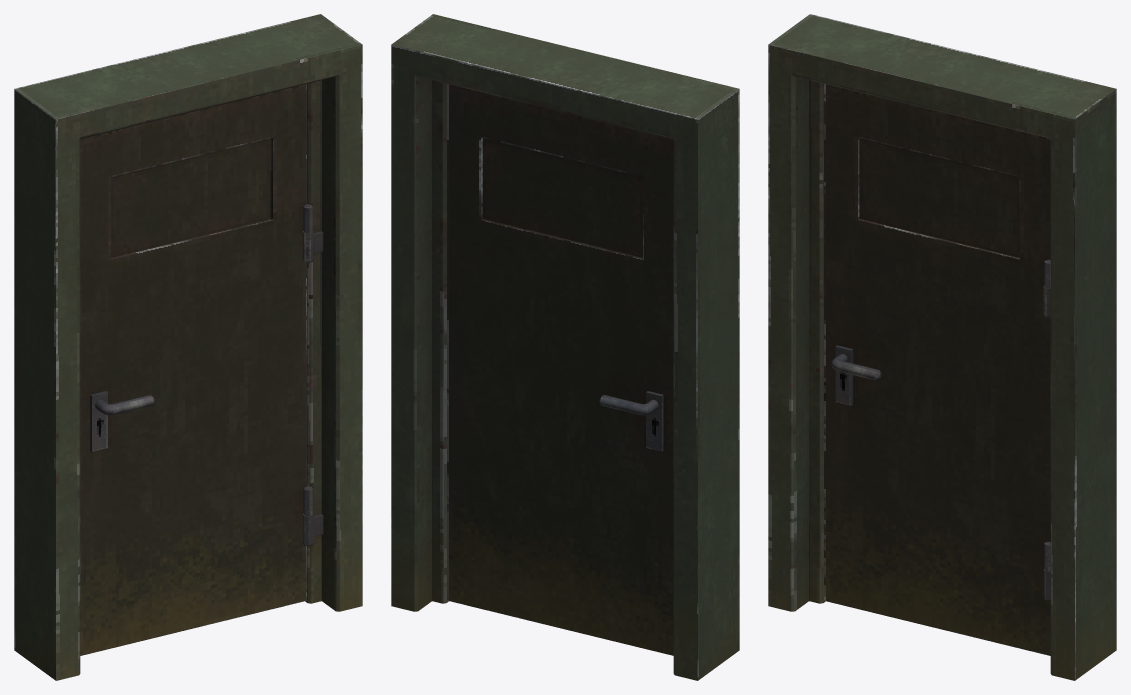
Rendered from heavydoor.glb.
3 views of the same model, side by side, from view 1: azimuth 30°, elevation 25°; view 2: azimuth 150°, elevation 25°; view 3: azimuth 330°, elevation 25° (orthographic).
Parts seen in each view (by area): view 1: handle_door1_0; view 2: handle_door1_0; view 3: handle_door1_0.
Boxes of the visible parts, x1,y1,x2,y2 form: handle_door1_0: (14, 14, 362, 680); handle_door1_0: (391, 14, 739, 680); handle_door1_0: (768, 14, 1116, 680).
Bounding box in the file's own units: 1.4 × 2.45 × 0.3313.
1 material, 1 textured.
